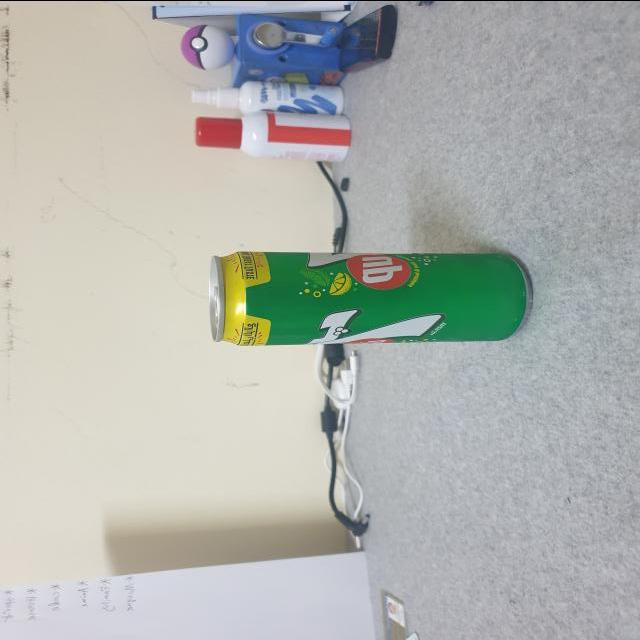can: (208, 250, 530, 342)
